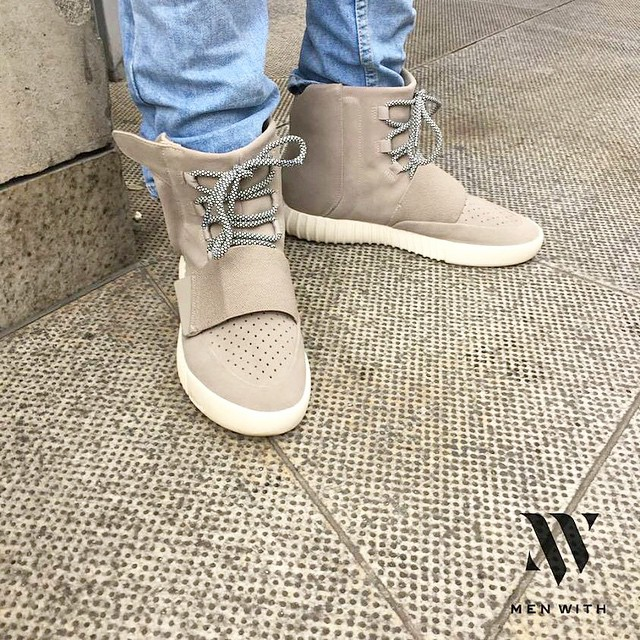sneaker: (100, 95, 334, 455), (262, 59, 562, 291)
